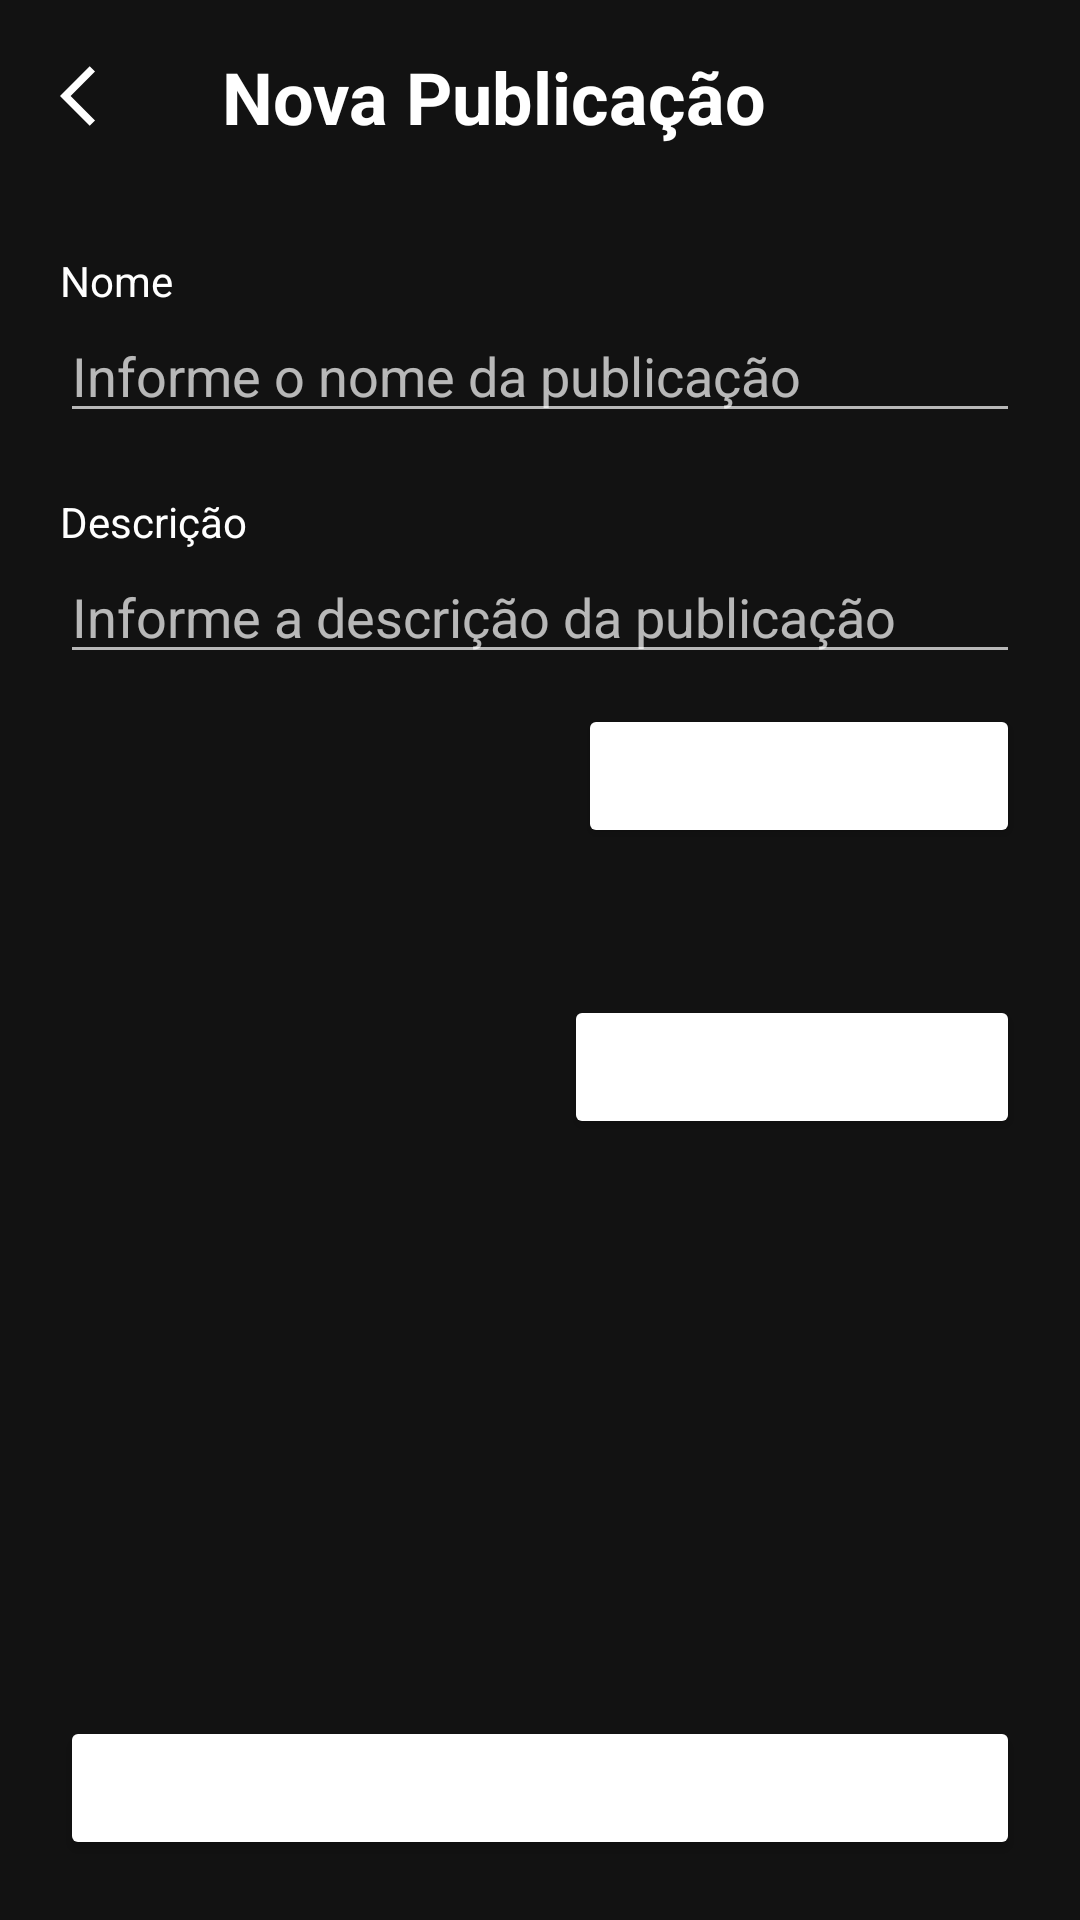

Icon bounding boxes for this 1080 × 1920 phone screenshot, format (x1,y1,x2,y2):
arrow back: (60,66,95,126)
